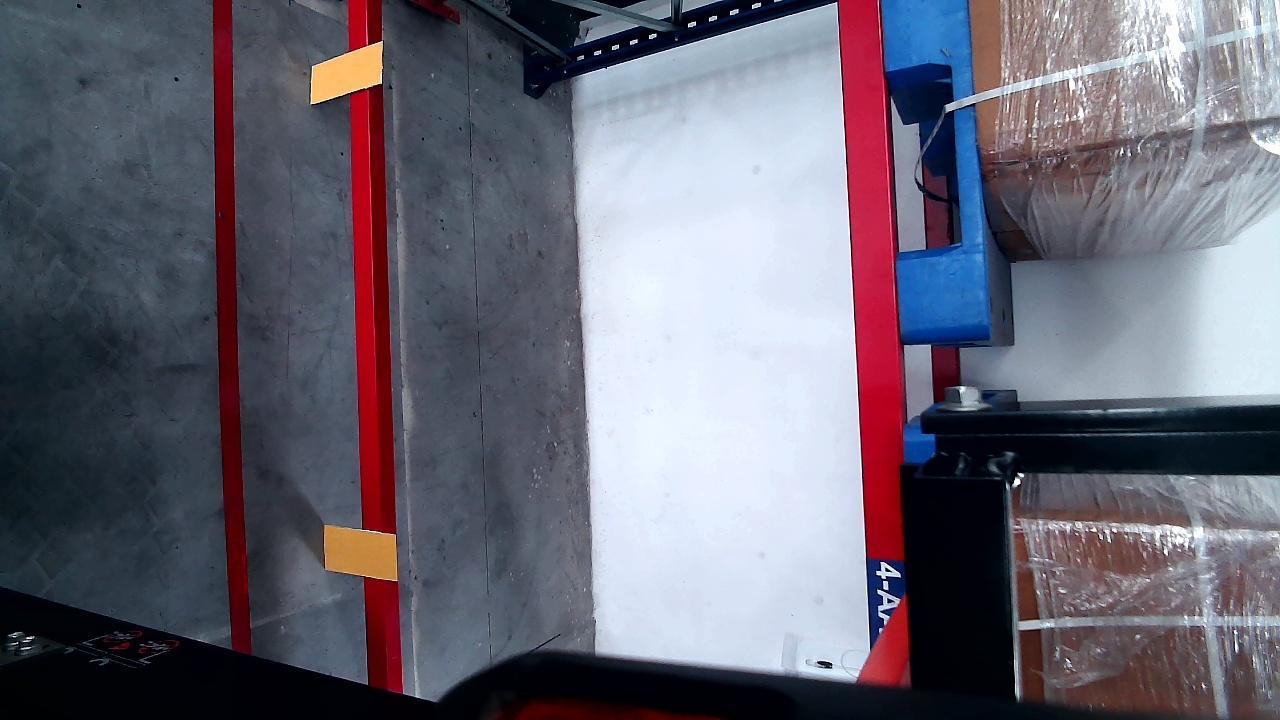red_line: (210, 0, 250, 675)
